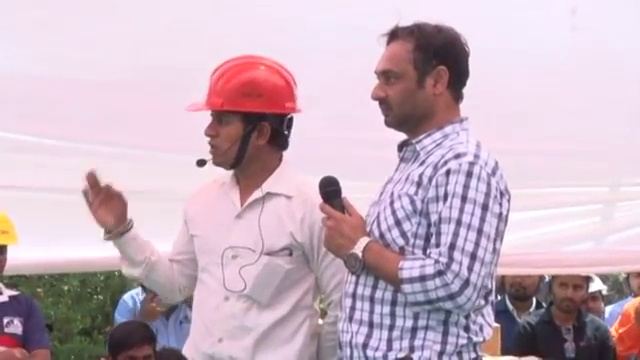helmet: (190, 53, 300, 122), (0, 209, 19, 251), (585, 275, 610, 296)
helmet_off: (366, 21, 475, 140), (547, 273, 597, 321), (102, 319, 160, 359), (505, 275, 538, 303)
helmet_on: (191, 49, 300, 185), (0, 206, 23, 288), (585, 276, 610, 320)
person: (76, 53, 358, 360), (321, 19, 516, 360), (520, 278, 619, 359), (0, 209, 53, 360), (493, 270, 553, 351)
